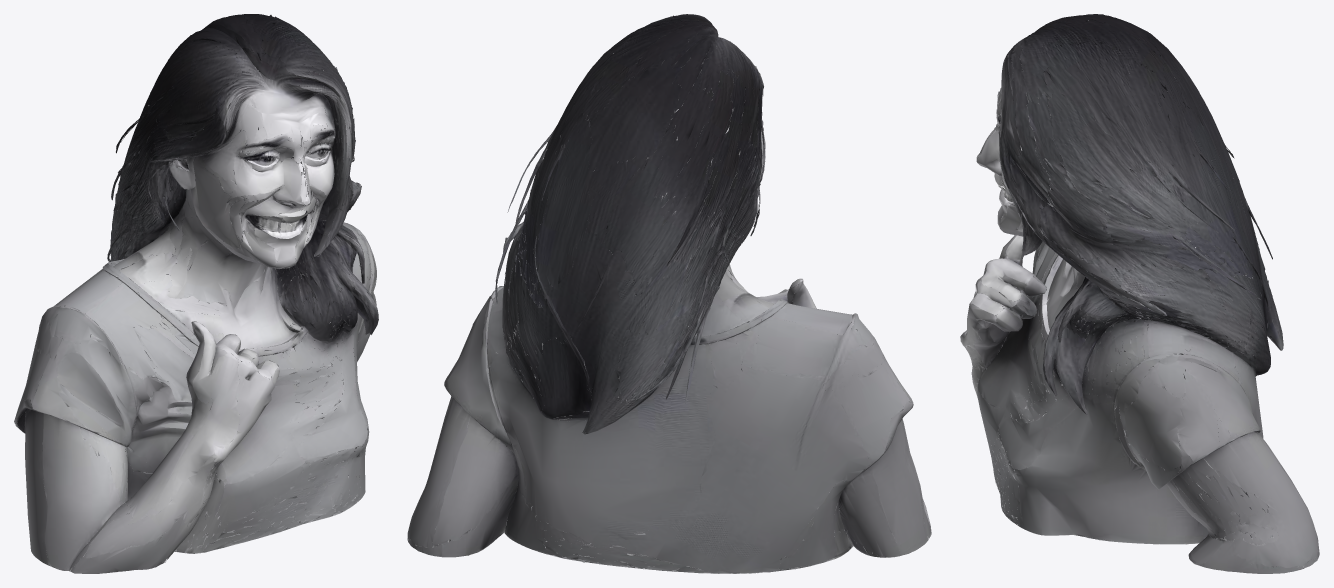
The model's file is VictoryBust.glb.
The picture shows the model from 3 angles, left to right: view 1: azimuth 30°, elevation 25°; view 2: azimuth 150°, elevation 25°; view 3: azimuth 270°, elevation 25°; orthographic projection.
Visible parts, largest first — view 1: node_0; view 2: node_0; view 3: node_0.
Boxes of the visible parts, <box> form: node_0: <box>14,14,378,573</box>; node_0: <box>407,14,931,573</box>; node_0: <box>960,14,1319,573</box>.
Size of the model in its own units: 0.7446 by 0.8339 by 0.576.
Materials: 1 (1 with a texture image).
